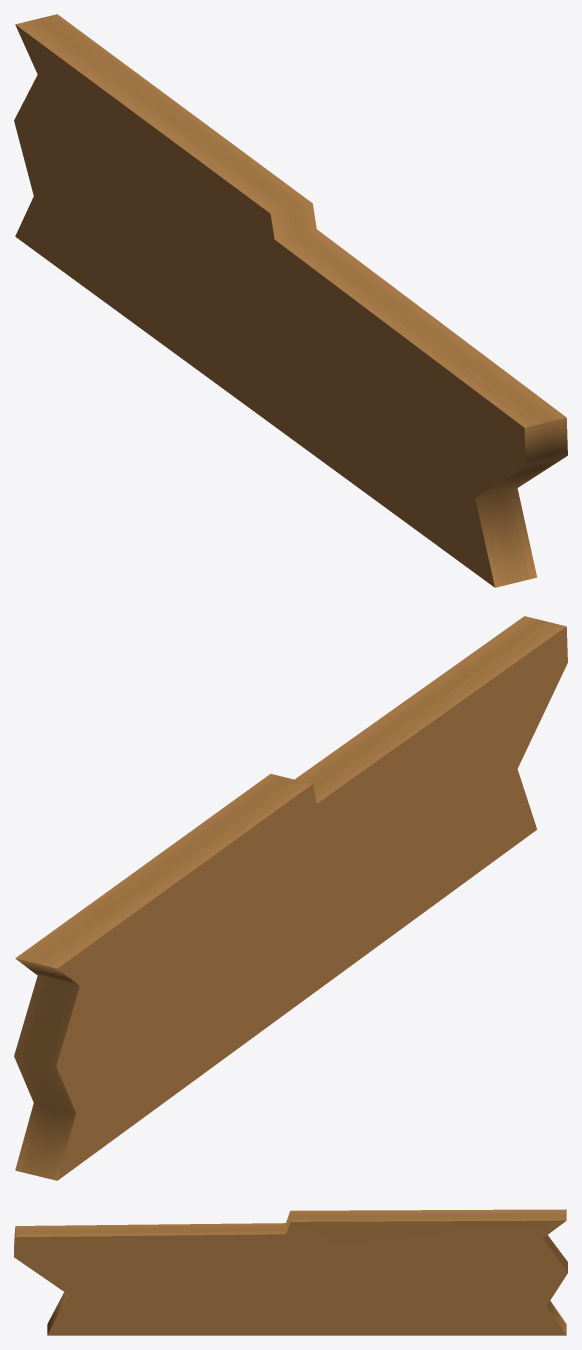
The model's file is hahen_2.fbx.
3 renders of one model, top to bottom at view 1: azimuth 30°, elevation 25°; view 2: azimuth 150°, elevation 25°; view 3: azimuth 270°, elevation 25°, orthographic. The views are drawn at different scales.
Visible parts, largest first — view 1: Hahen_2; view 2: Hahen_2; view 3: Hahen_2.
Part boxes in pixels (bbox=[...]): Hahen_2: bbox=[14, 14, 567, 587]; Hahen_2: bbox=[14, 616, 567, 1180]; Hahen_2: bbox=[14, 1209, 567, 1335].
Size of the model in its own units: 0.5356 by 2.57 by 11.24.
